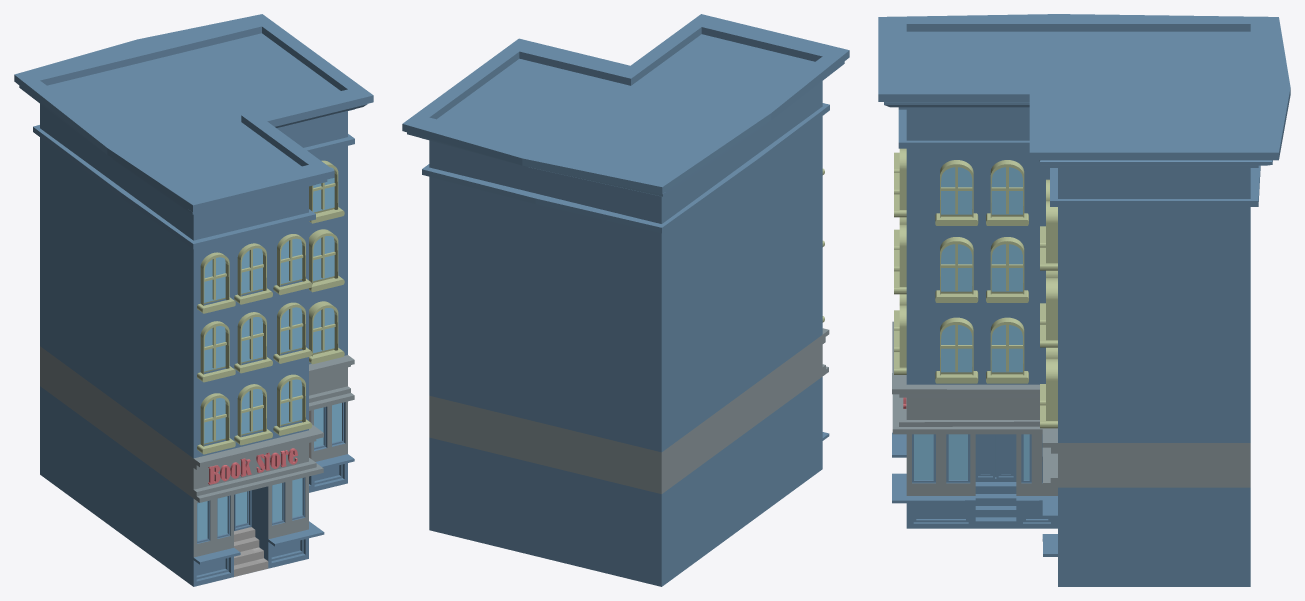
The model's file is Bookstore.fbx.
3 renders of one model, left to right at view 1: azimuth 30°, elevation 25°; view 2: azimuth 150°, elevation 25°; view 3: azimuth 270°, elevation 25°, orthographic. The views are drawn at different scales.
Visible parts, largest first — view 1: Cube; view 2: Cube; view 3: Cube.
Part boxes in pixels (left/top/right/bottom): Cube: left=14, top=14, right=373, bottom=586; Cube: left=402, top=14, right=849, bottom=586; Cube: left=878, top=14, right=1290, bottom=586.
Bounding box in the file's own units: 4955 × 7356 × 6225.
